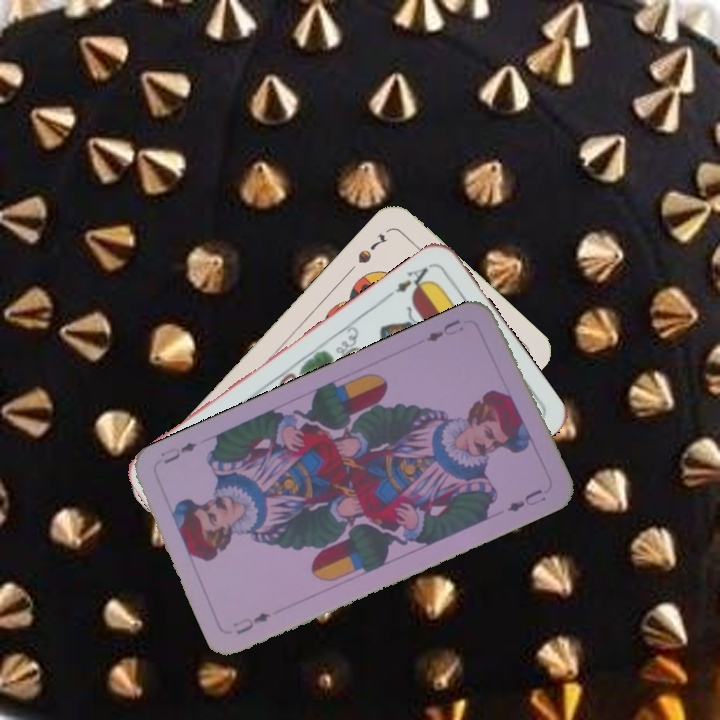EA: (382, 260, 435, 301)
EU: (422, 315, 466, 345), (228, 608, 273, 637)
S7: (354, 229, 390, 267)
